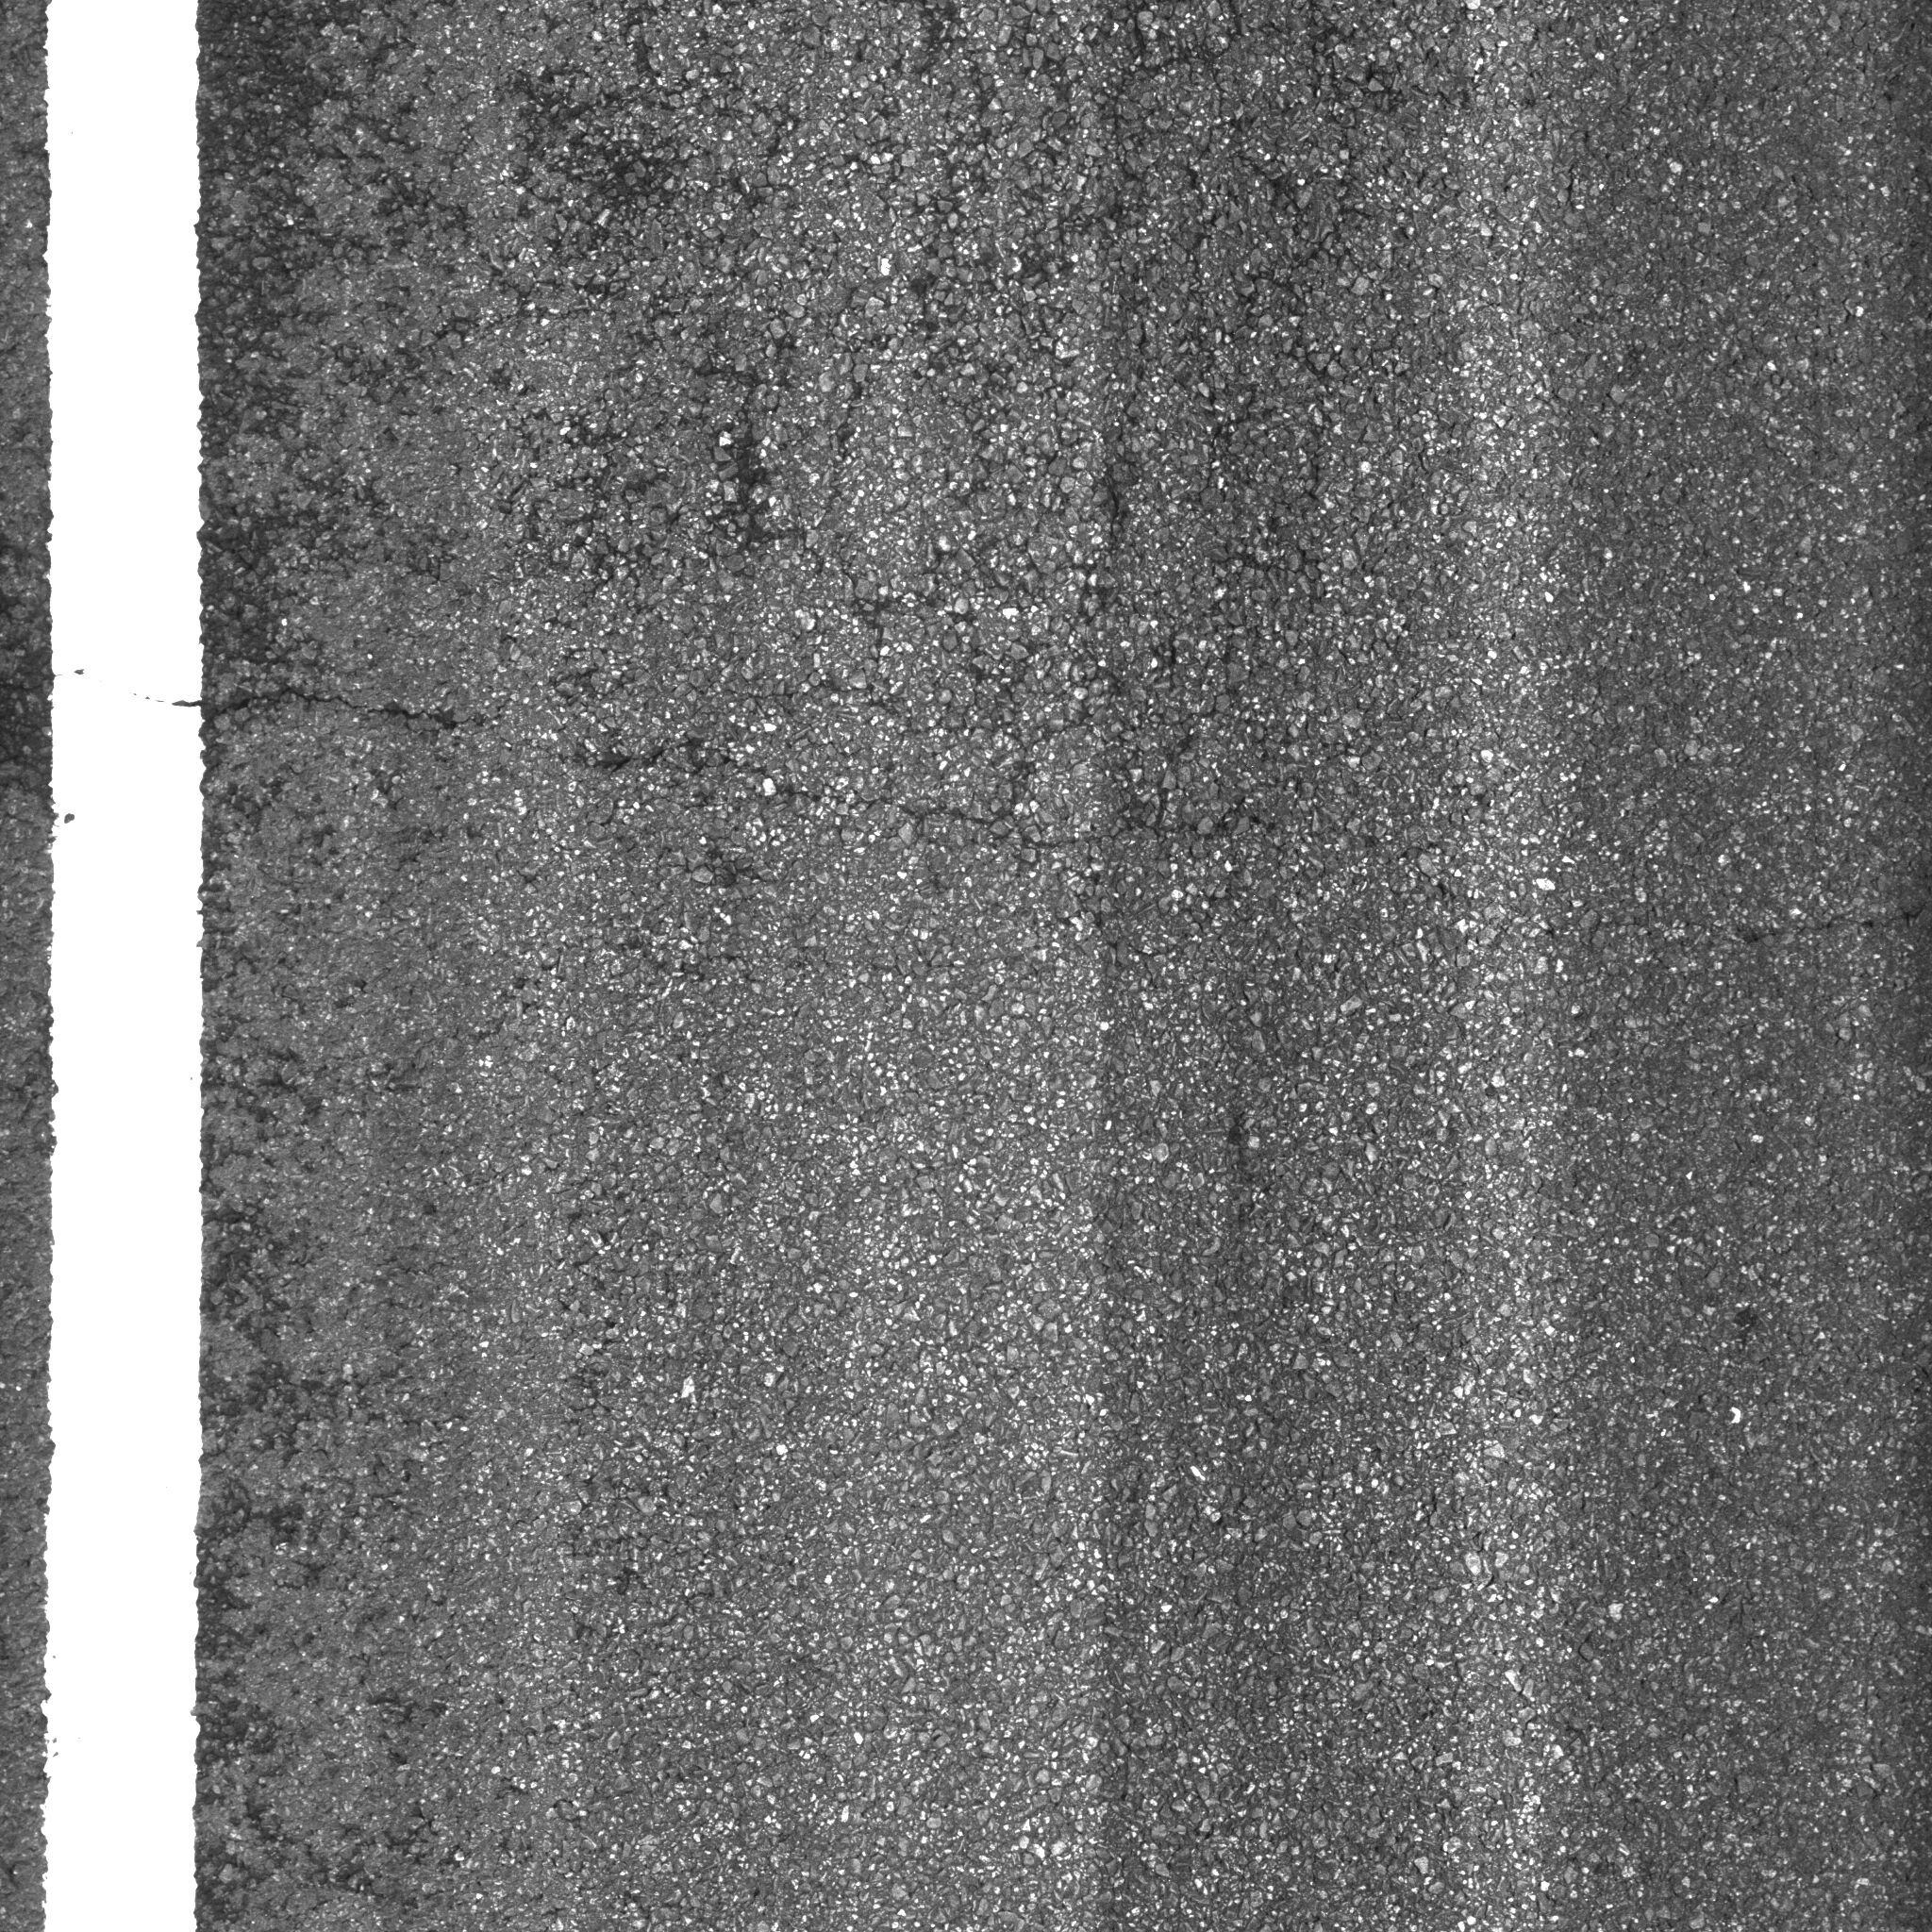transeverse: (129, 651, 1932, 973)
